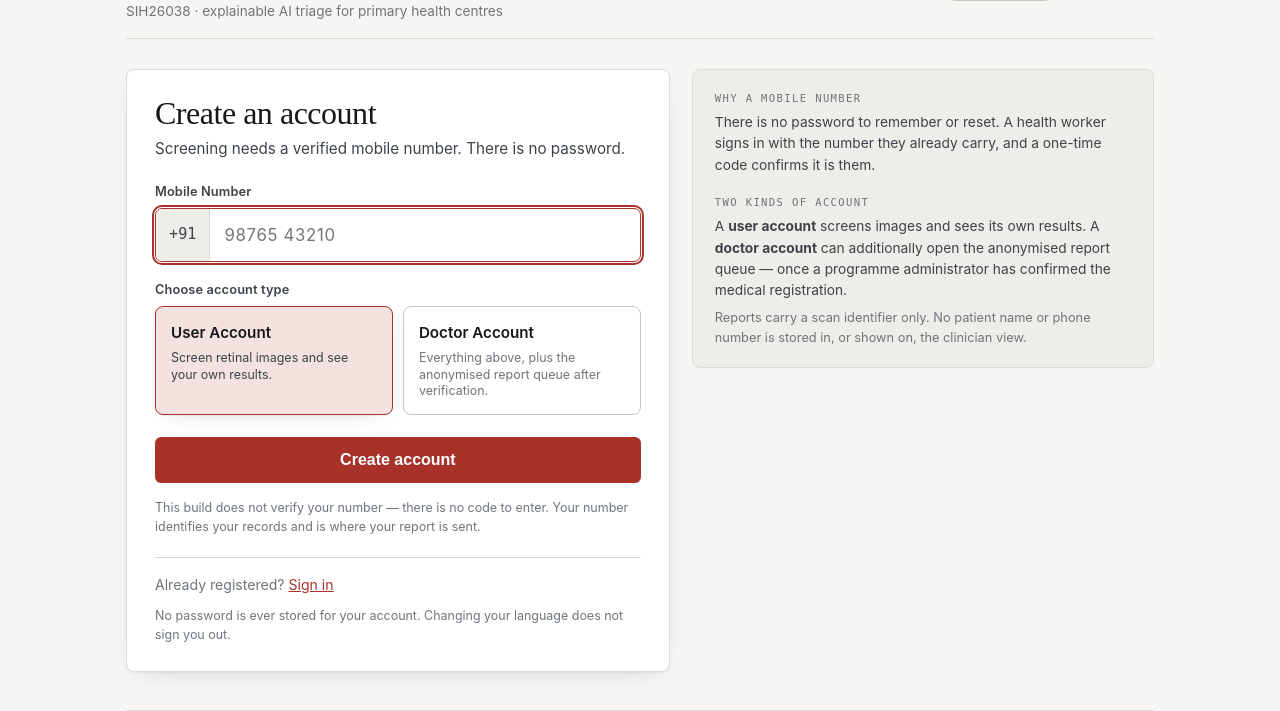
Test: signup › sends the doctor claim, and lands on pending rather than on reports
Type "9876543210" into the field with placeholder "98765 43210" at point(425, 235), box [210, 209, 640, 261]
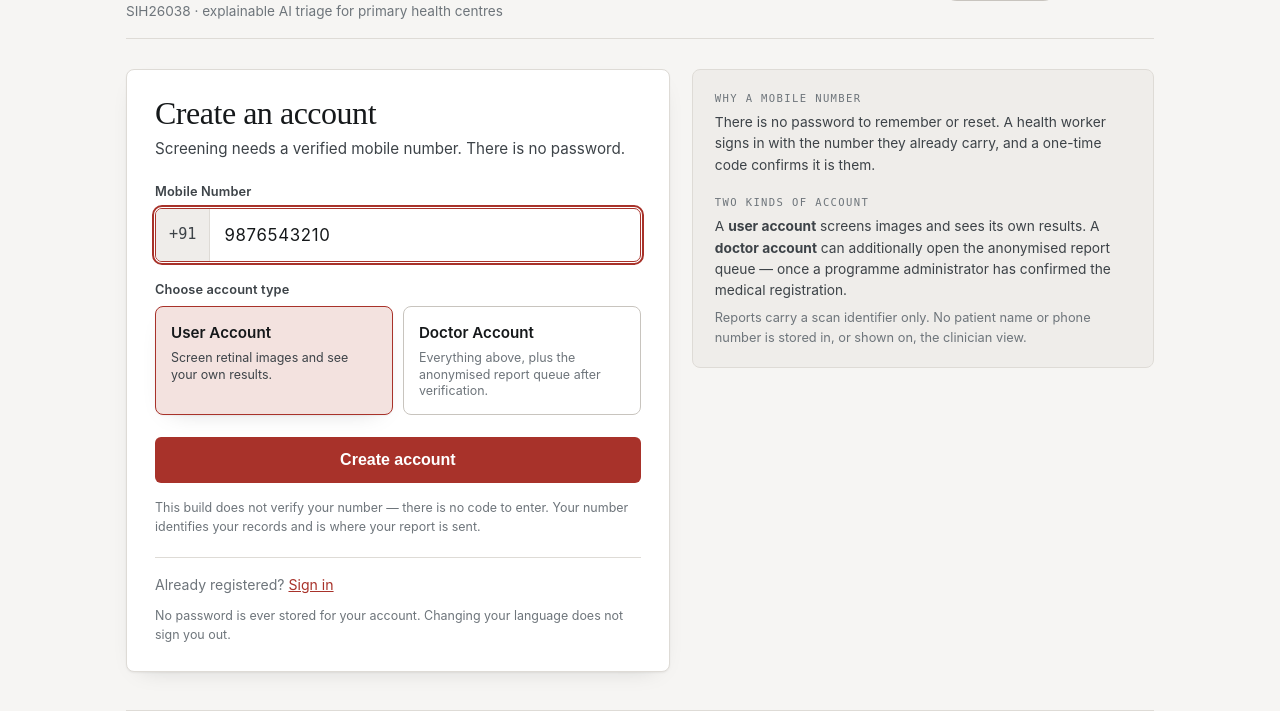
Click the text "Doctor Account" at point(476, 333), box [419, 321, 534, 345]
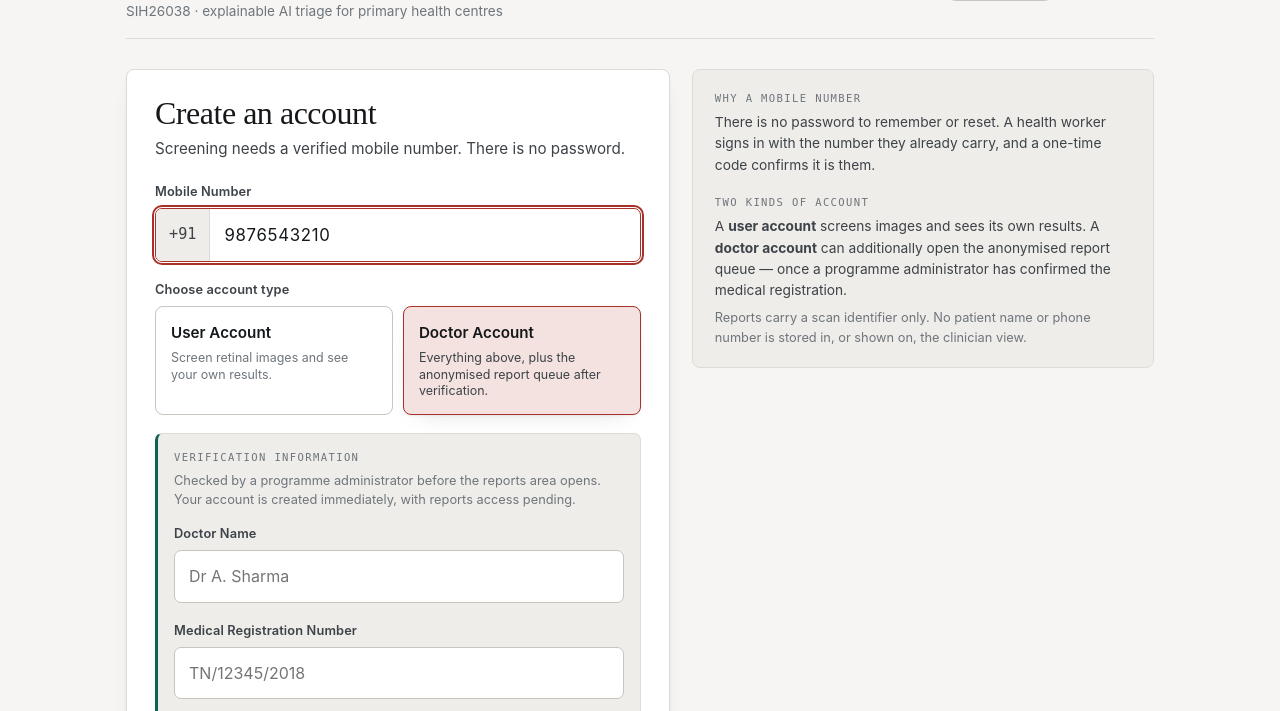
Type "Dr Rao" into the field with placeholder "Dr A. Sharma" at point(399, 576), box [174, 550, 624, 603]
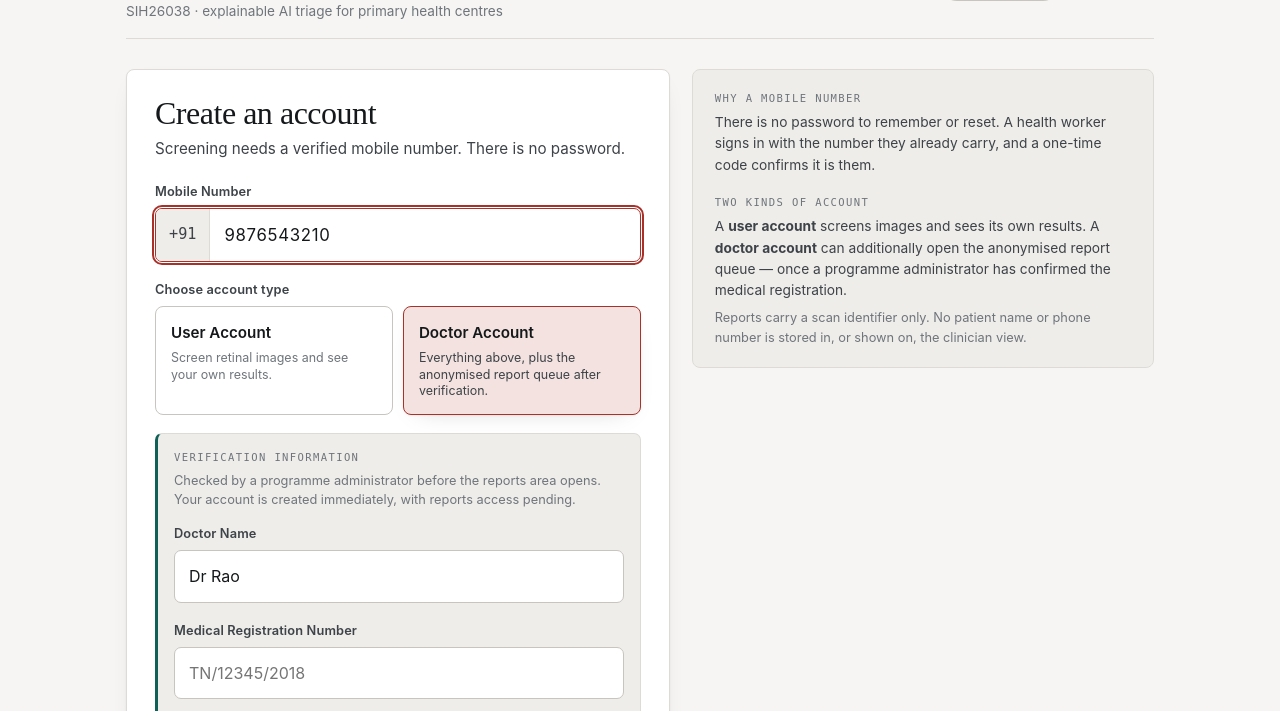
Type "TN-12345" into the field with placeholder "TN/12345/2018" at point(399, 673), box [174, 647, 624, 700]
(page scrolled)
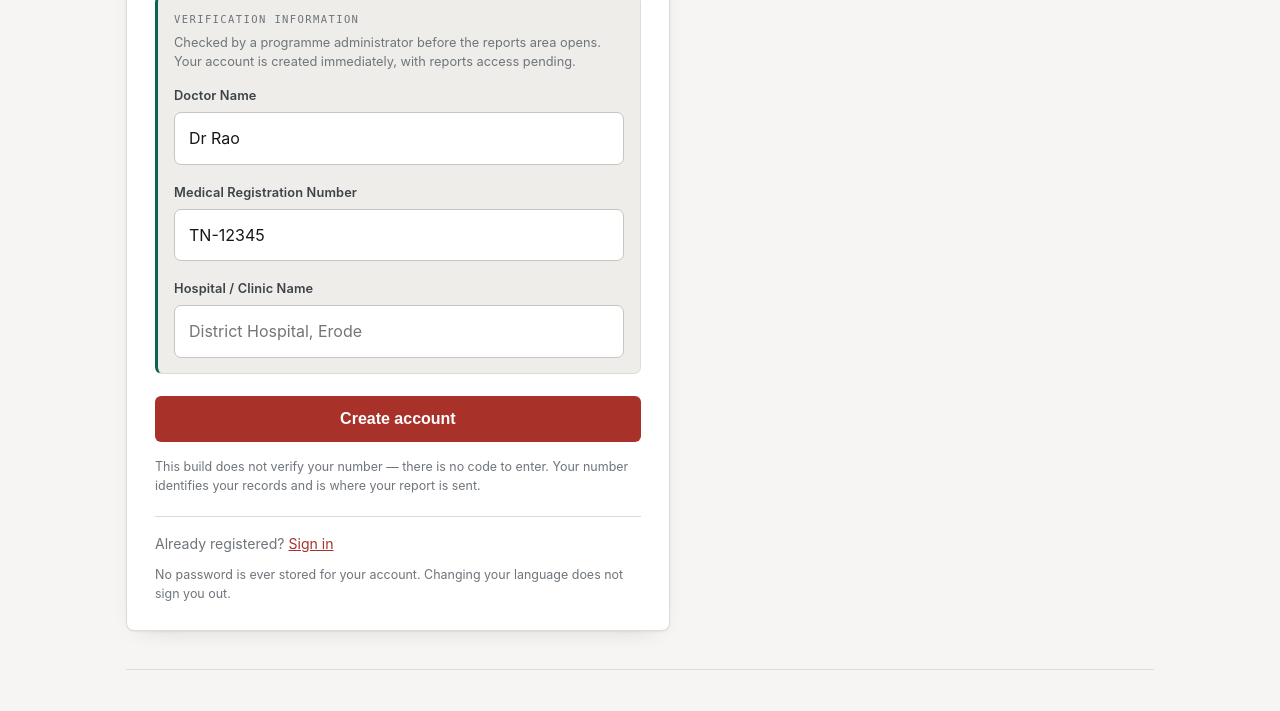
Type "District Hospital" into the field with placeholder "District Hospital, Erode" at point(399, 332), box [174, 305, 624, 358]
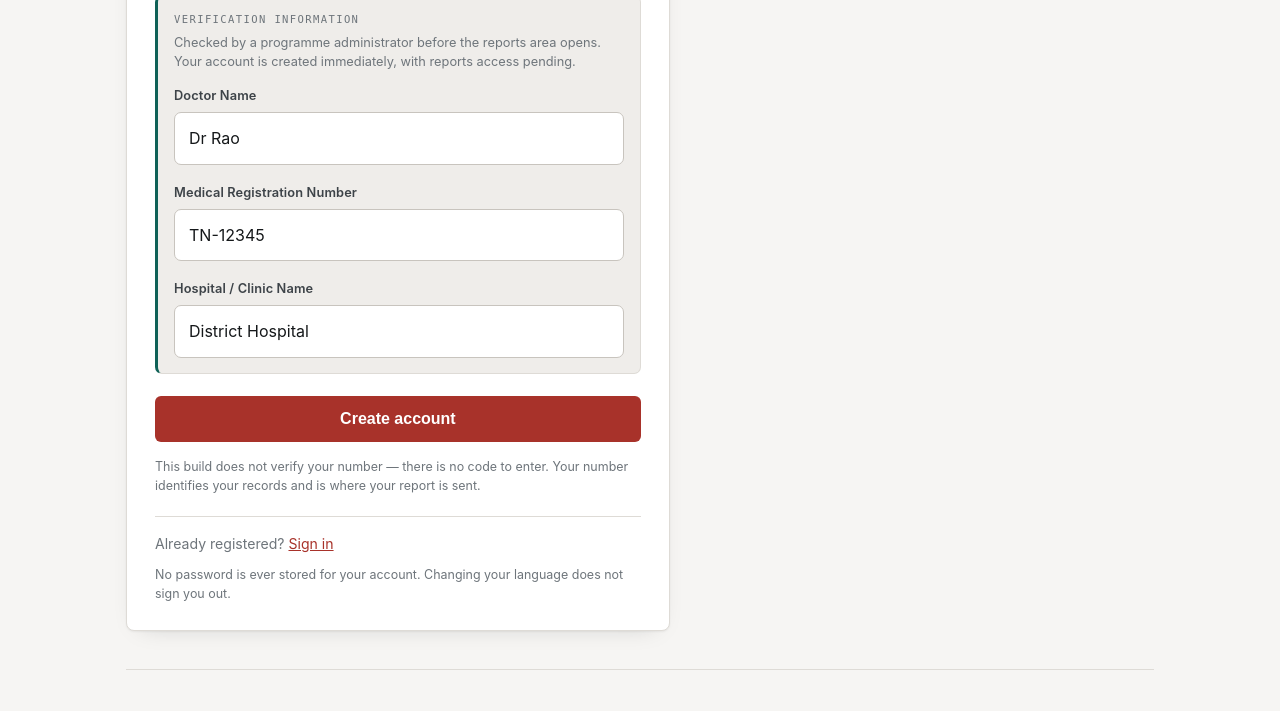
Click the button "Create account" at point(398, 419), box [155, 396, 641, 442]
(page scrolled)
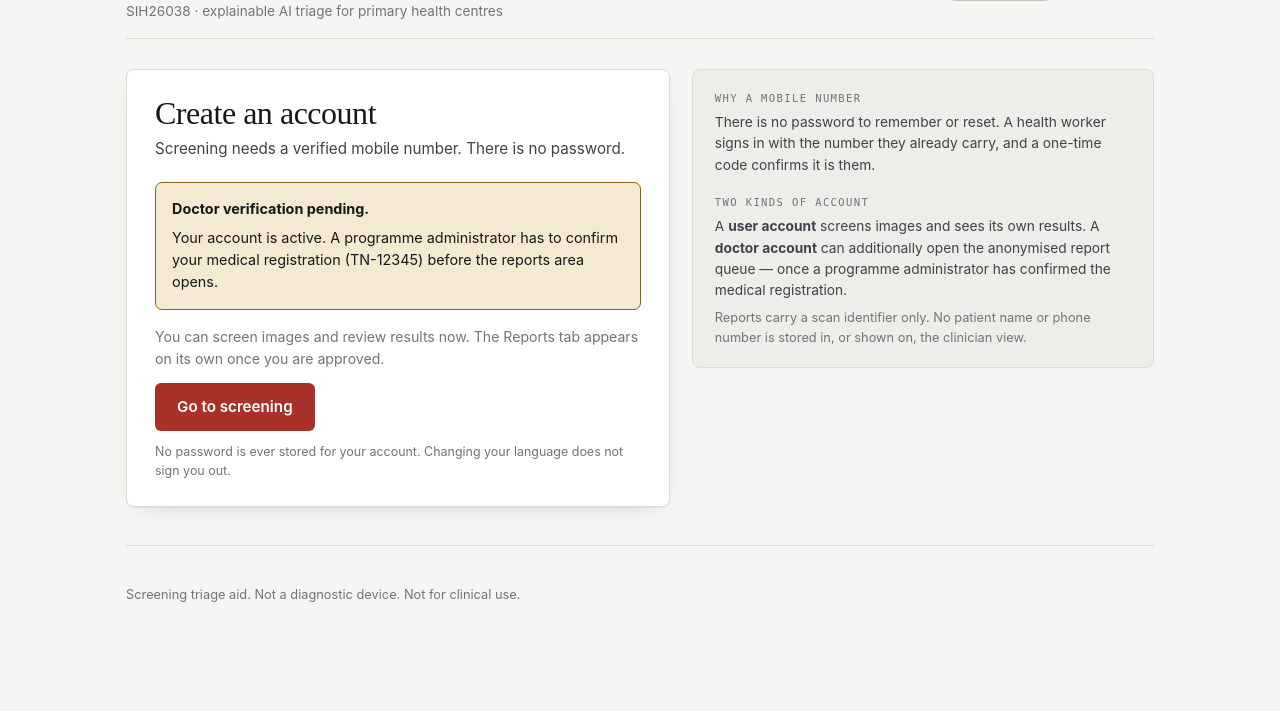
expect the text "Doctor verification pending." is shown: met, box [172, 200, 369, 217]
